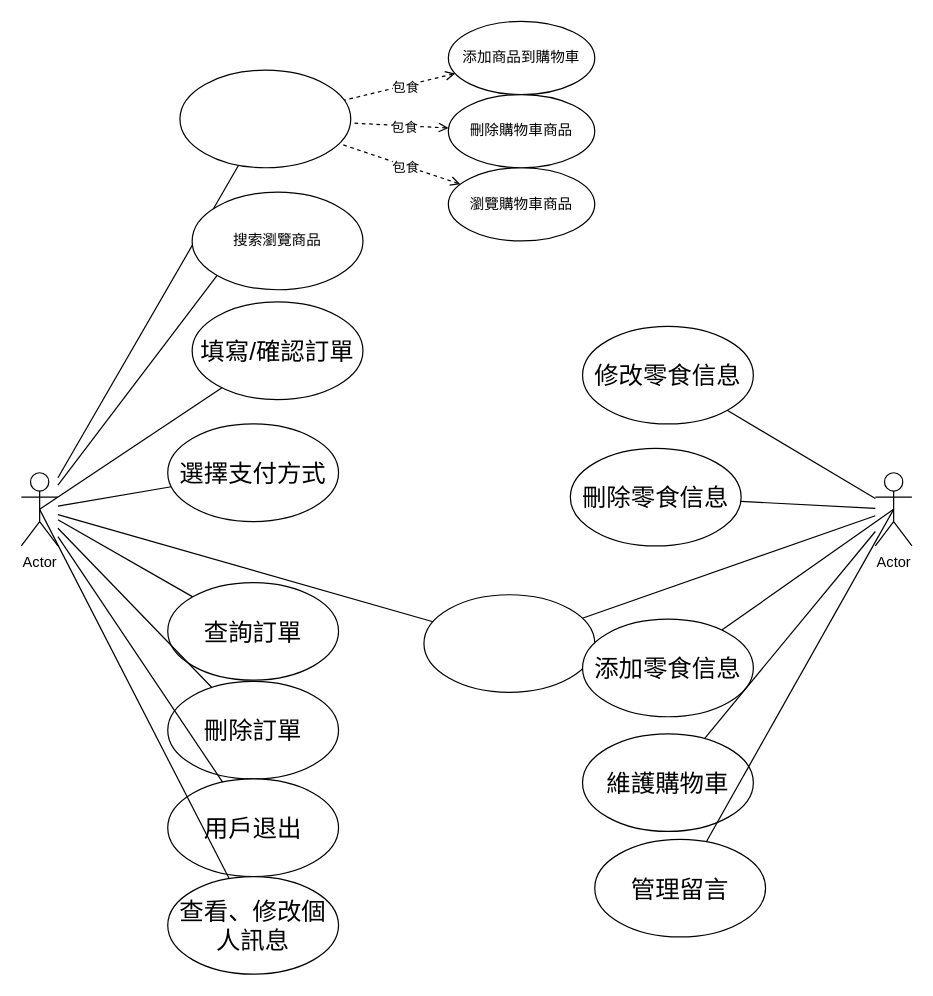
Image size: 933x996. Some labels were removed from this diagram. The box of each missing label's shape, as (x1, y1, x2, y2) in pixels:
登陸\註冊: (423, 594, 595, 692)
購物車管理: (179, 69, 351, 168)
